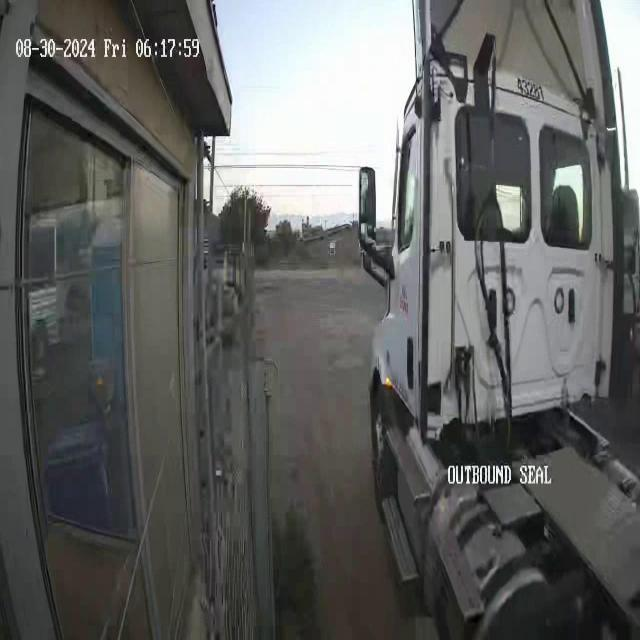TRUCK_OUT: (357, 1, 639, 637)
